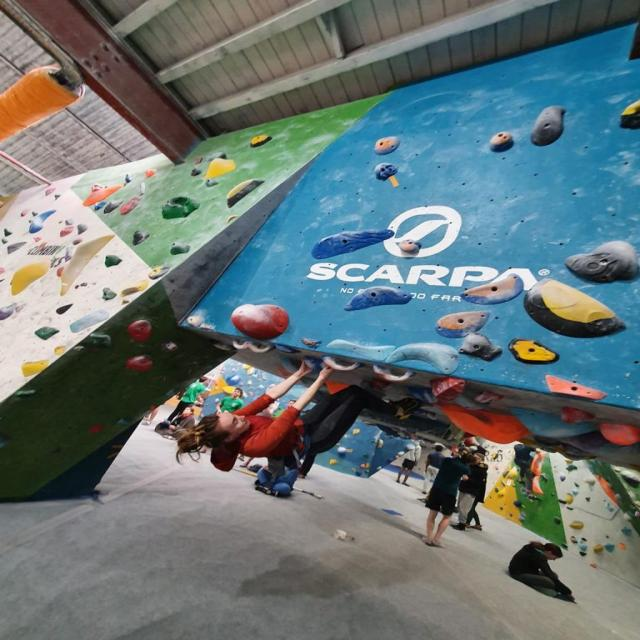Crimp: (306, 223, 398, 262), (459, 269, 527, 309), (542, 370, 605, 403), (509, 331, 562, 370), (432, 308, 499, 338), (528, 100, 568, 146), (339, 286, 414, 310), (484, 125, 520, 161), (368, 133, 408, 157), (298, 332, 328, 352)
Jug: (561, 236, 640, 287), (458, 329, 502, 364), (552, 403, 600, 430), (227, 339, 275, 355), (374, 364, 411, 383), (325, 354, 357, 373)
Sloper: (522, 274, 630, 340), (440, 399, 536, 446), (53, 231, 117, 299), (504, 402, 607, 442), (386, 336, 464, 375), (226, 299, 294, 340), (325, 333, 400, 361), (8, 257, 50, 299), (593, 414, 640, 447), (67, 306, 114, 339), (199, 154, 246, 181), (123, 315, 155, 343), (18, 357, 51, 379), (125, 353, 155, 374)
